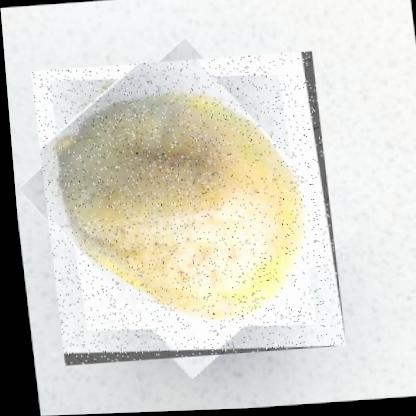orange_rotten: (28, 51, 340, 366)
